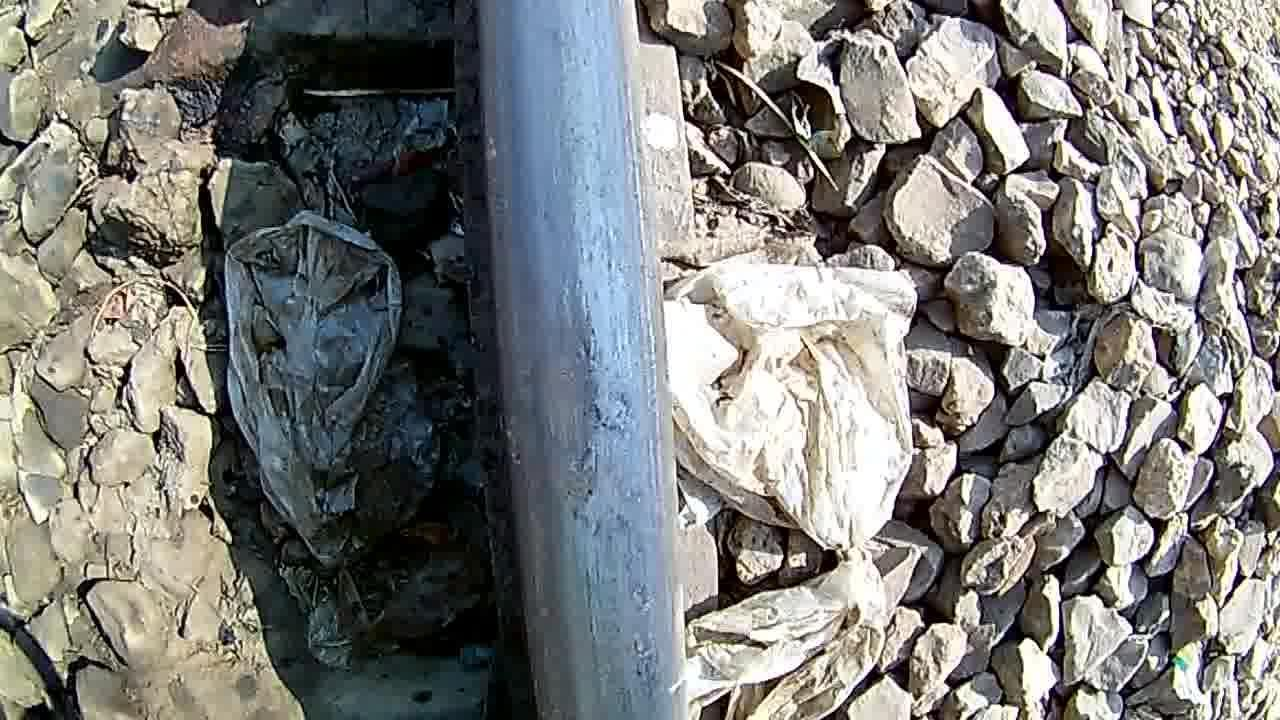crack: (459, 249, 686, 671)
